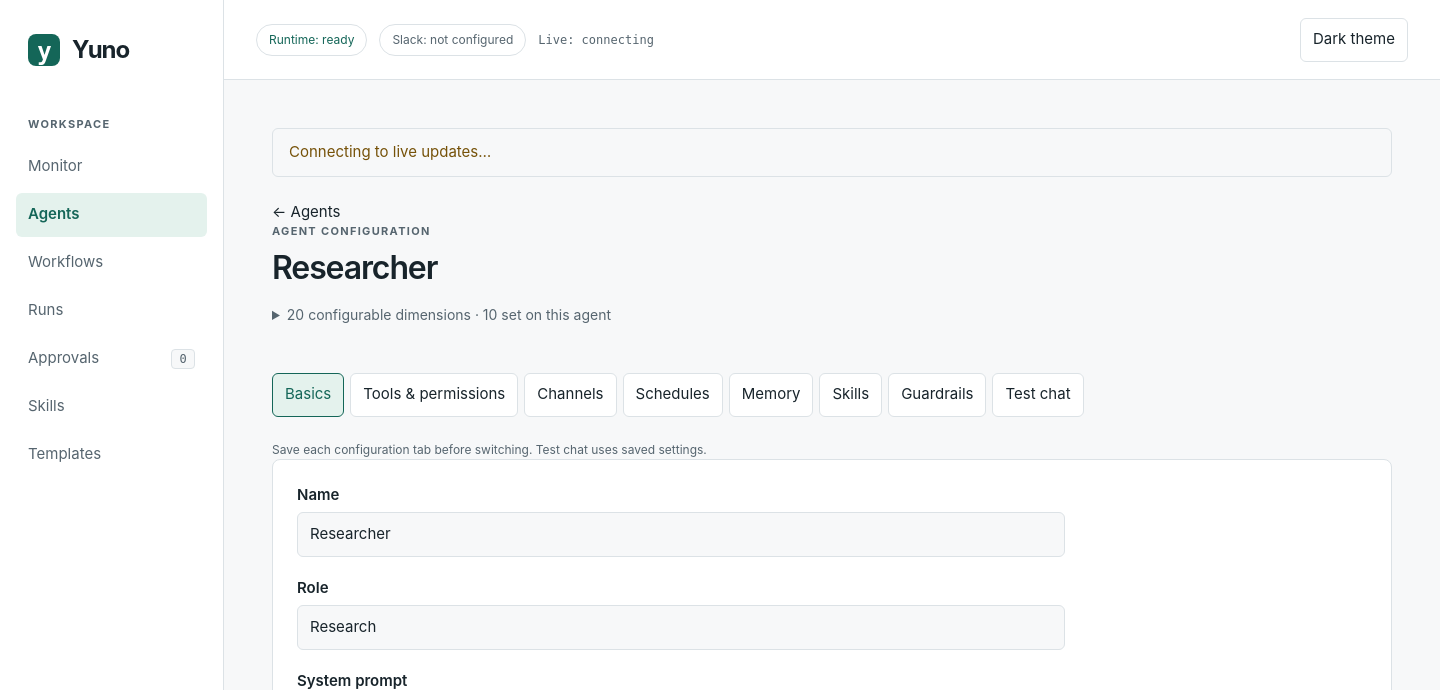
Test: T16 agent editor (R-01, R-02, R-03, R-04, R-05, R-20) › R-03 locks schedule edits while saving and resets only after the pending update persists
Expected: the field labelled "Name" is shown, [297,512,1065,556]
Click the tab "Schedules" at (673, 394), box [622,372,723,416]
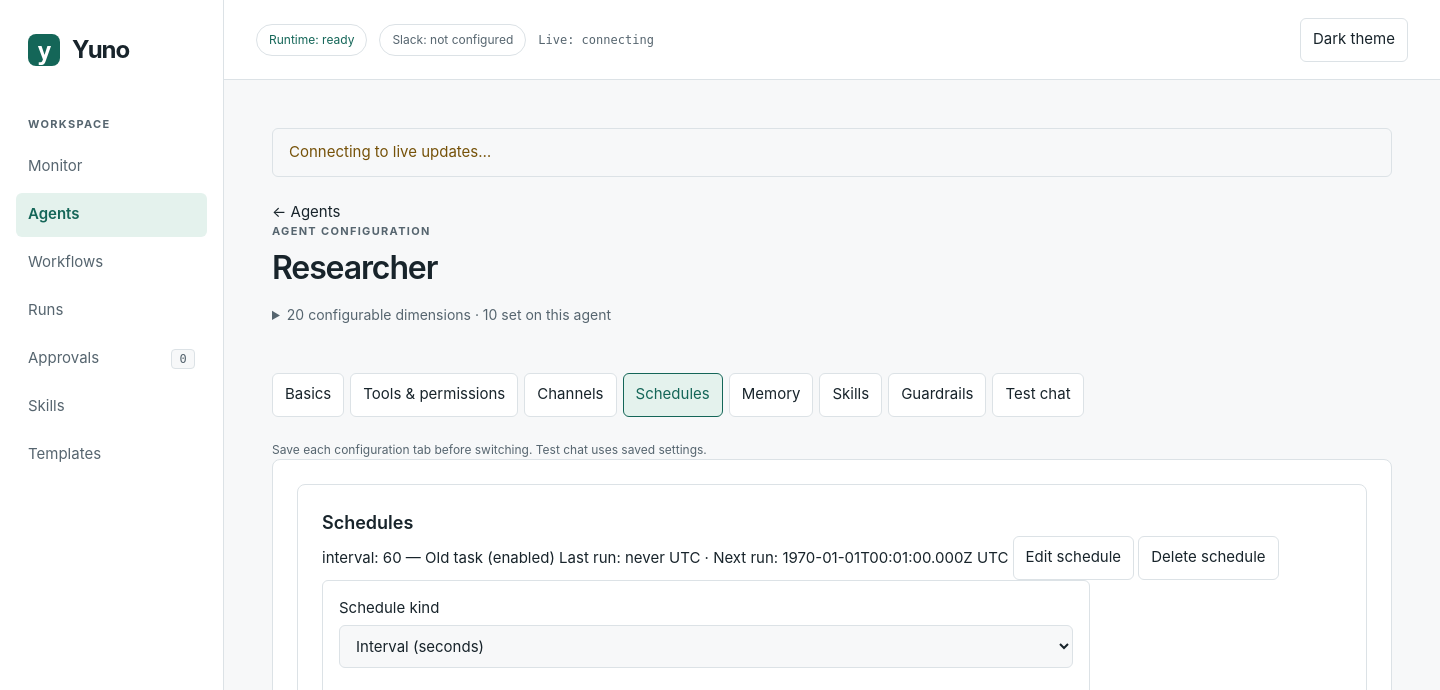
Click the button "Edit schedule" at (1073, 558), box [1013,536,1134,580]
(page scrolled)
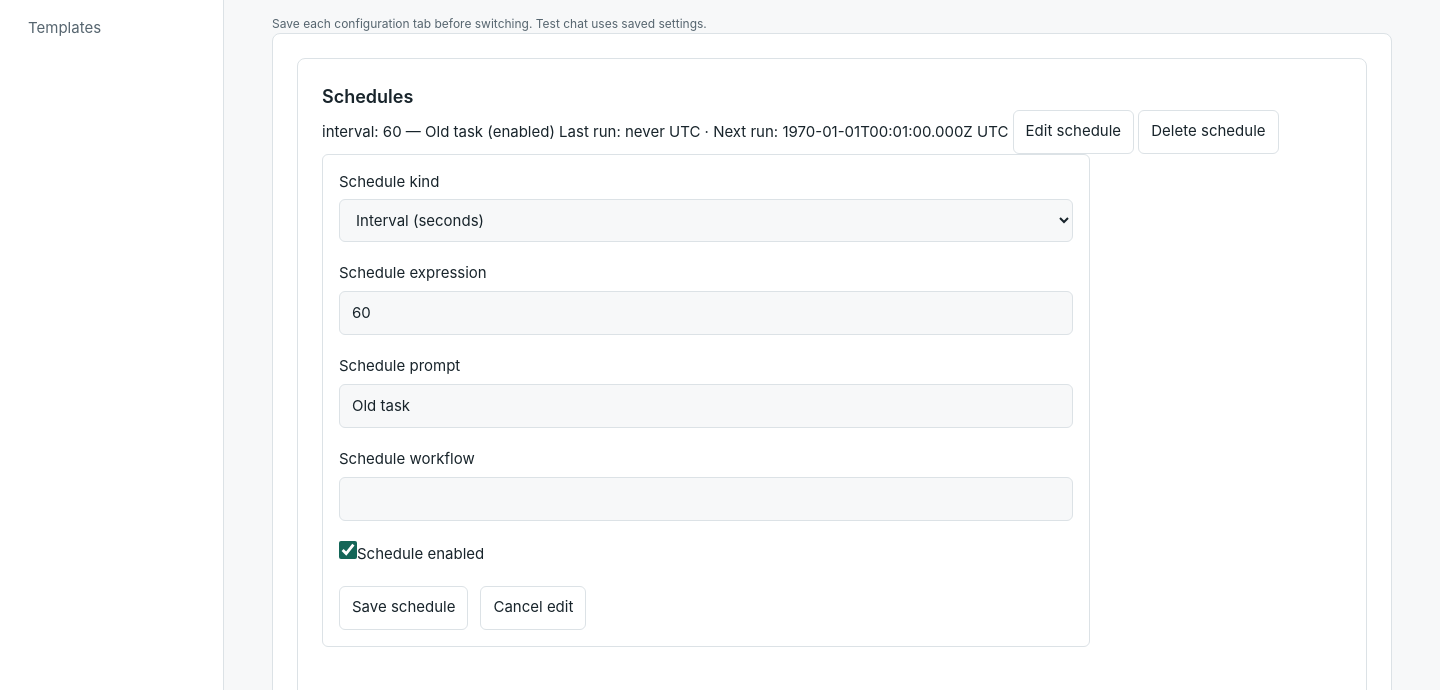
Replace the text in the field labelled "Schedule prompt" with "Updated task" at (706, 406), box [339,384,1073,428]
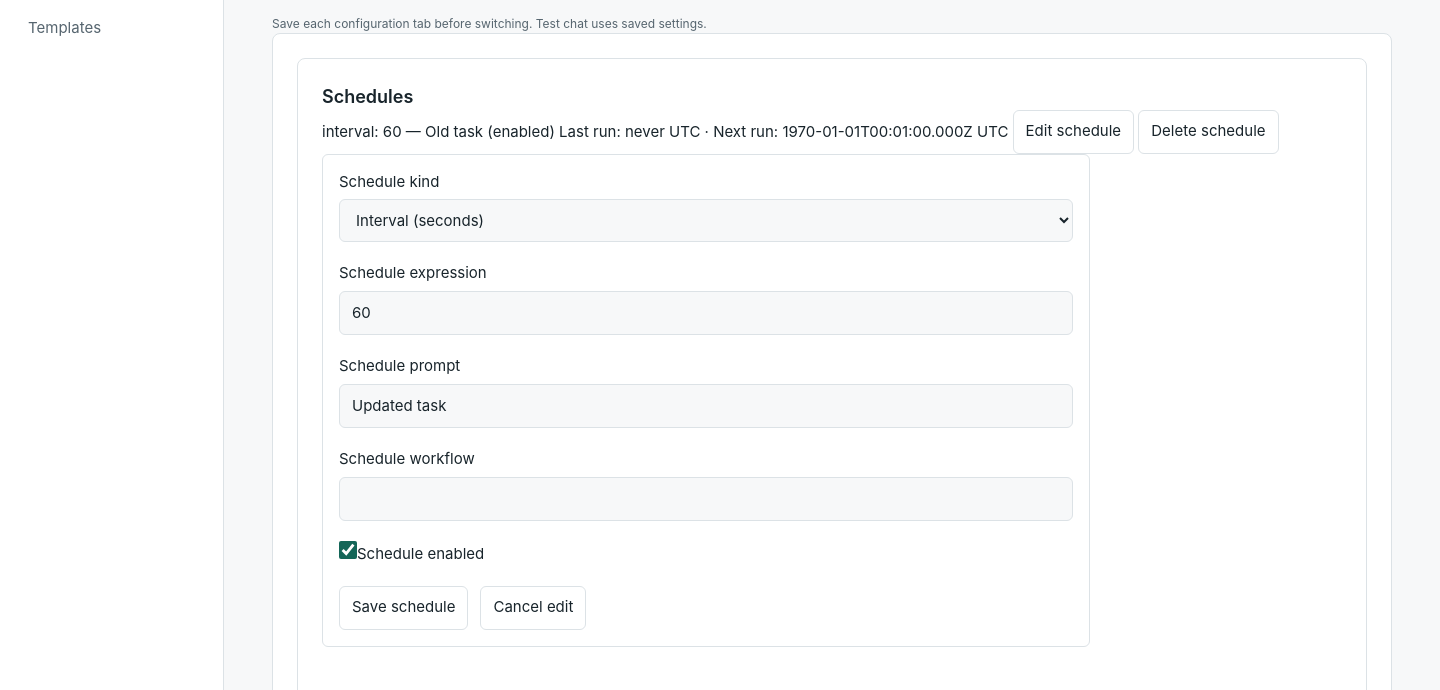
Click the button "Save schedule" at (404, 608), box [339,586,468,630]
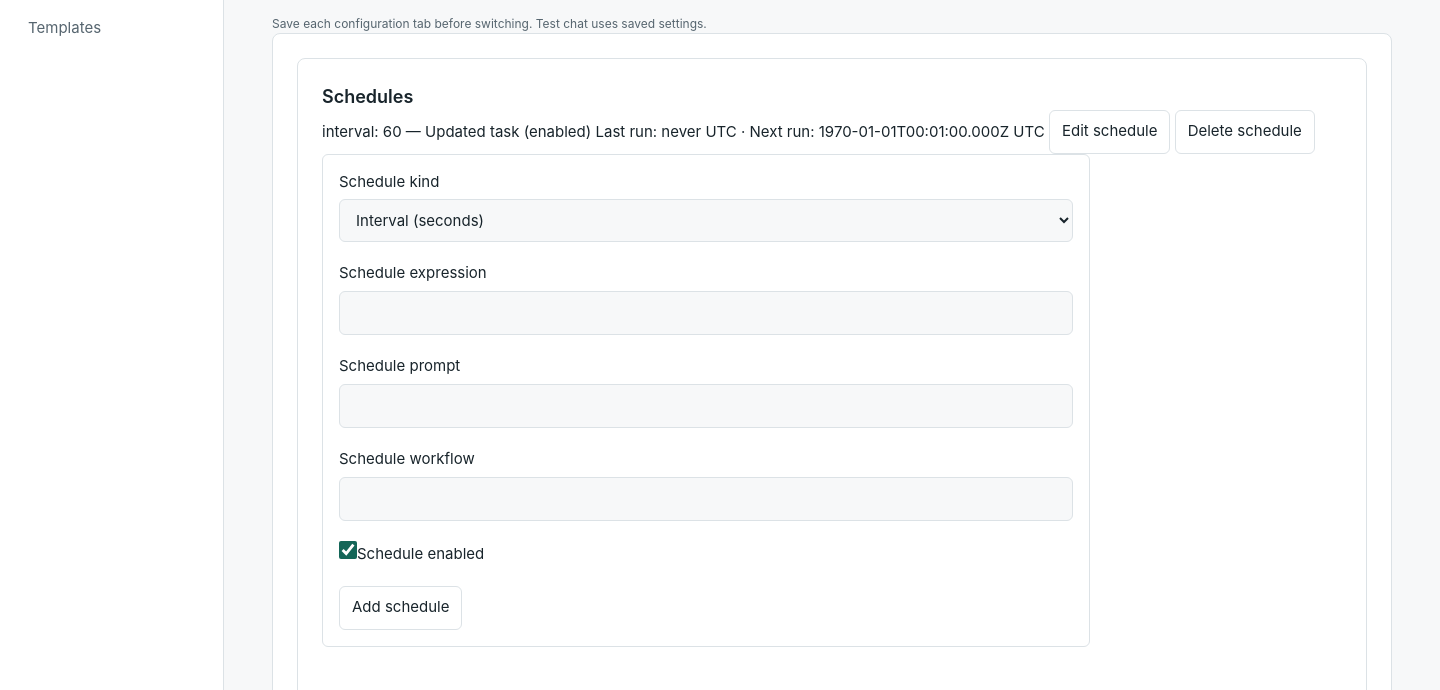
Expected: the button "Add schedule" is shown, [339,586,462,630]
Expected: the field labelled "Schedule prompt" is empty, [339,384,1073,428]
